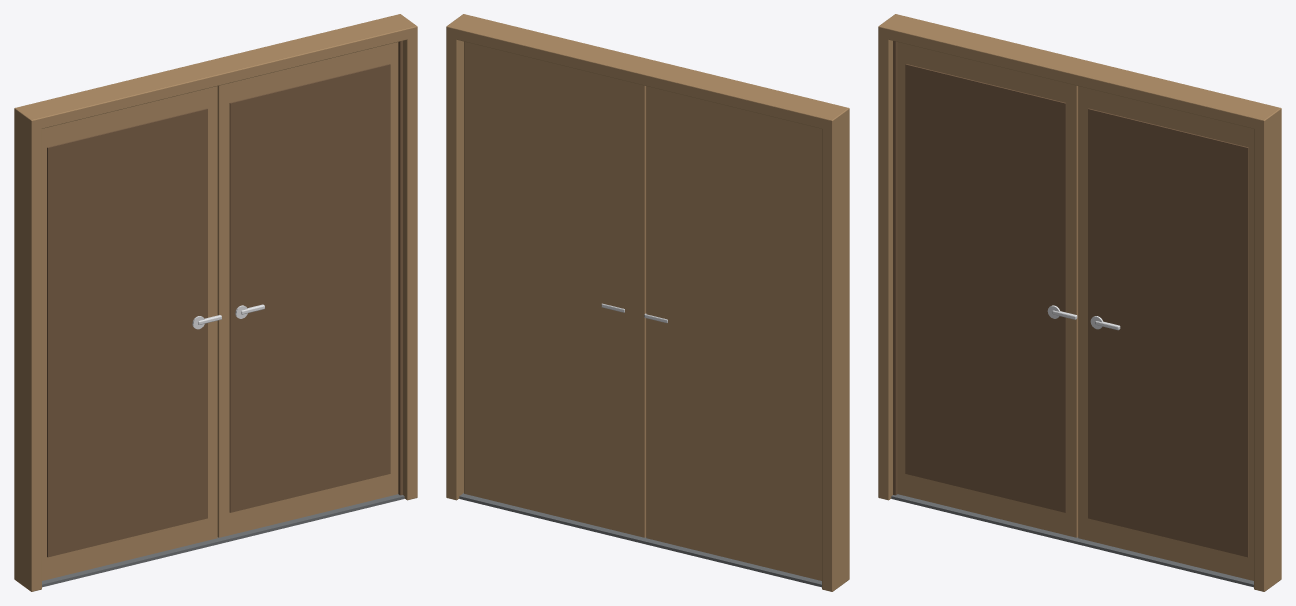
File: door-double-flush-1800.glb
3 views of the same model, side by side, from view 1: azimuth 30°, elevation 25°; view 2: azimuth 150°, elevation 25°; view 3: azimuth 330°, elevation 25° (orthographic).
Parts seen in each view (by area): view 1: LeafRPanel, LeafLPanel, LeafR, LeafL, JambL.002, Head.002, JambR.002, Threshold.002, StopR.002; view 2: LeafR, LeafL, JambL.002, Head.002, JambR.002, Threshold.002; view 3: LeafLPanel, LeafRPanel, LeafL, LeafR, JambR.002, Head.002, JambL.002, Threshold.002, StopL.002.
Boxes of the visible parts, left/top/right/bottom form: LeafRPanel: left=229, top=64, right=390, bottom=512; LeafLPanel: left=47, top=108, right=207, bottom=557; LeafR: left=217, top=42, right=398, bottom=537; LeafL: left=42, top=86, right=217, bottom=580; JambL.002: left=14, top=113, right=41, bottom=591; Head.002: left=14, top=14, right=417, bottom=130; JambR.002: left=403, top=27, right=417, bottom=500; Threshold.002: left=42, top=494, right=404, bottom=587; StopR.002: left=398, top=41, right=402, bottom=495; LeafR: left=464, top=41, right=646, bottom=537; LeafL: left=646, top=86, right=821, bottom=580; JambL.002: left=822, top=110, right=849, bottom=591; Head.002: left=446, top=14, right=849, bottom=130; JambR.002: left=446, top=28, right=463, bottom=500; Threshold.002: left=459, top=493, right=821, bottom=587; LeafLPanel: left=905, top=64, right=1066, bottom=512; LeafRPanel: left=1088, top=108, right=1248, bottom=557; LeafL: left=897, top=42, right=1078, bottom=537; LeafR: left=1078, top=86, right=1253, bottom=580; JambR.002: left=1254, top=110, right=1281, bottom=591; Head.002: left=878, top=14, right=1281, bottom=130; JambL.002: left=878, top=28, right=892, bottom=500; Threshold.002: left=891, top=494, right=1253, bottom=587; StopL.002: left=893, top=41, right=897, bottom=495.
Bounding box in the file's own units: 1.8 × 2.1 × 0.14.
